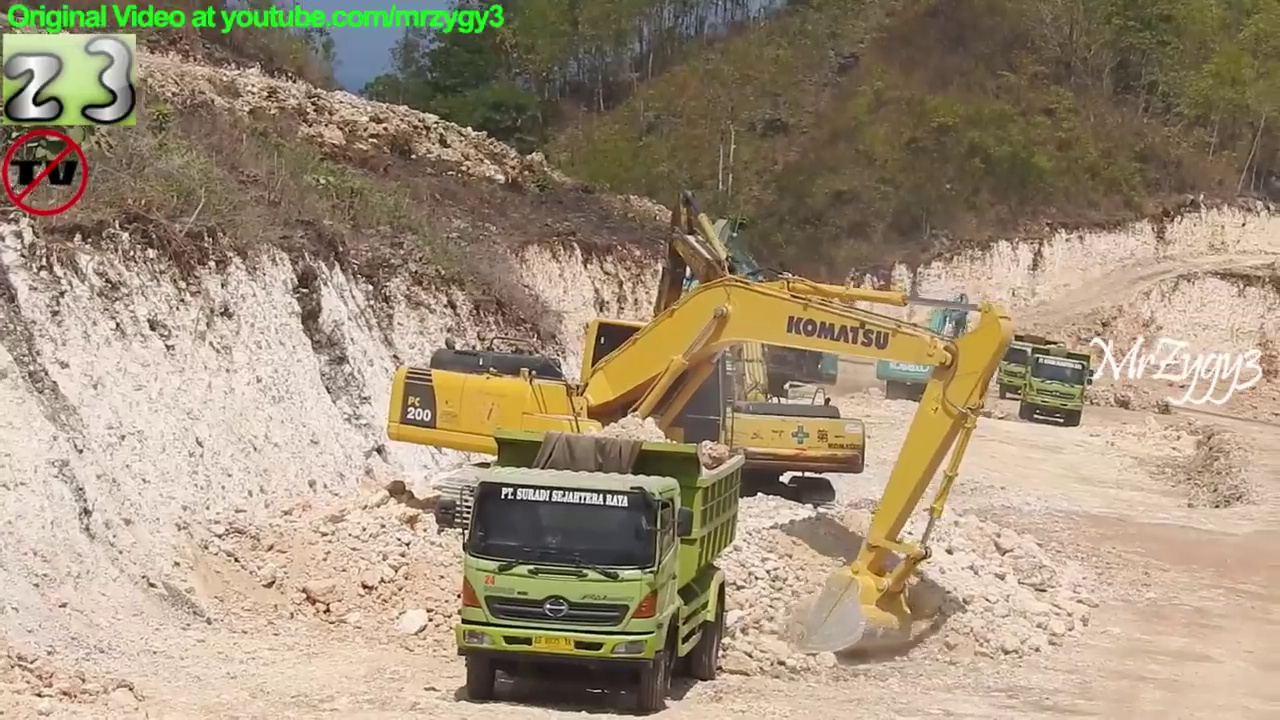excavator: (382, 272, 1020, 658), (630, 185, 877, 519), (691, 213, 846, 398), (879, 288, 984, 409)
truck: (434, 427, 747, 719), (1010, 341, 1099, 430), (996, 328, 1072, 405)
